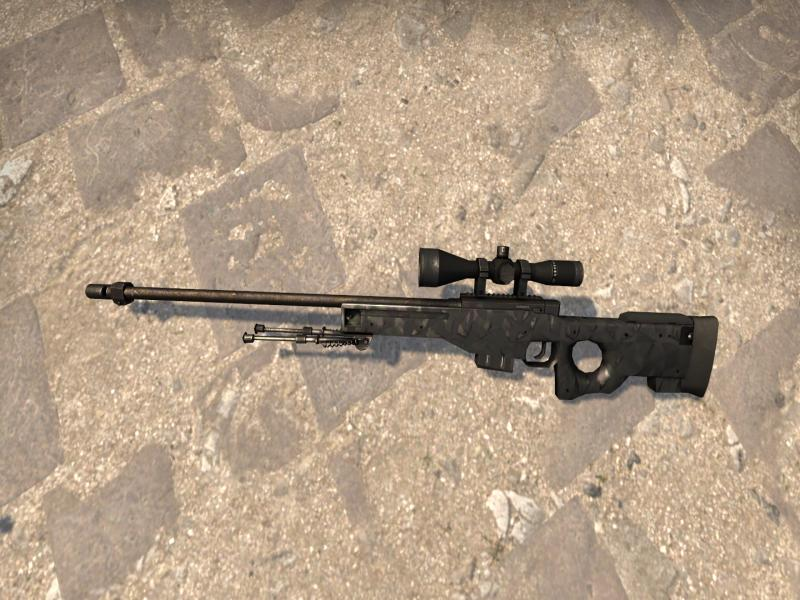AWP: (85, 246, 720, 399)
